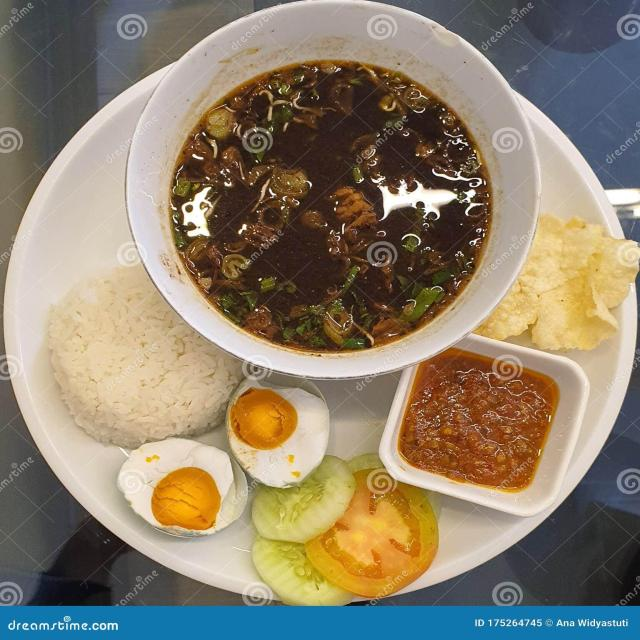Rawon: (157, 65, 508, 332)
